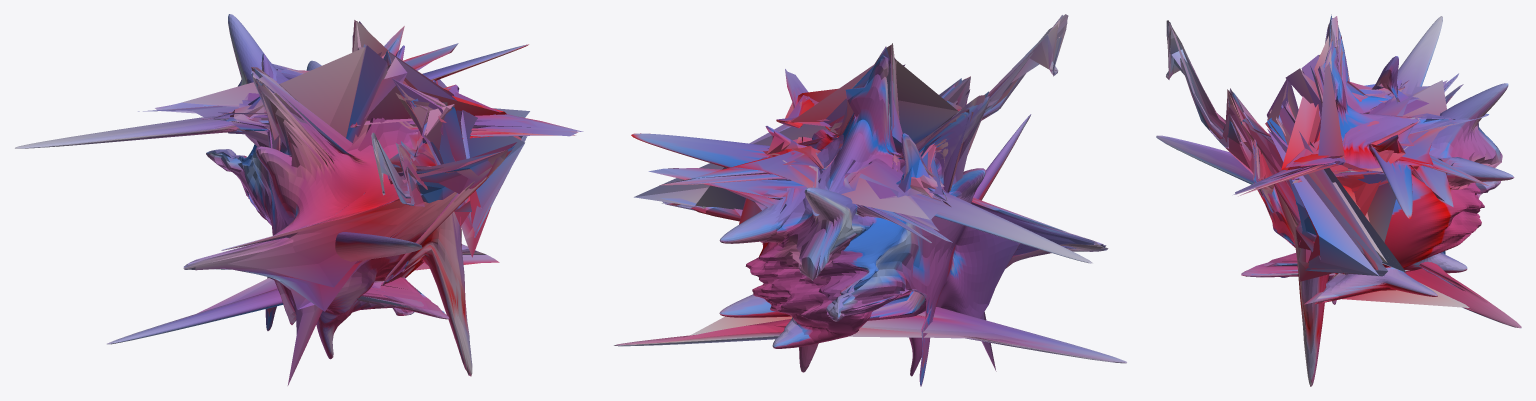
File: 3DBjörk.glb
3 views of the same model, side by side, from view 1: azimuth 30°, elevation 25°; view 2: azimuth 150°, elevation 25°; view 3: azimuth 270°, elevation 25° (orthographic). The views are drawn at different scales.
Visible parts, largest first — view 1: Quad Sphere; view 2: Quad Sphere; view 3: Quad Sphere.
Part boxes in pixels (<box>): Quad Sphere: <box>15,14,583,385</box>; Quad Sphere: <box>614,14,1126,386</box>; Quad Sphere: <box>1156,14,1521,386</box>.
Bounding box in the file's own units: 7.77 × 5.59 × 5.97.
